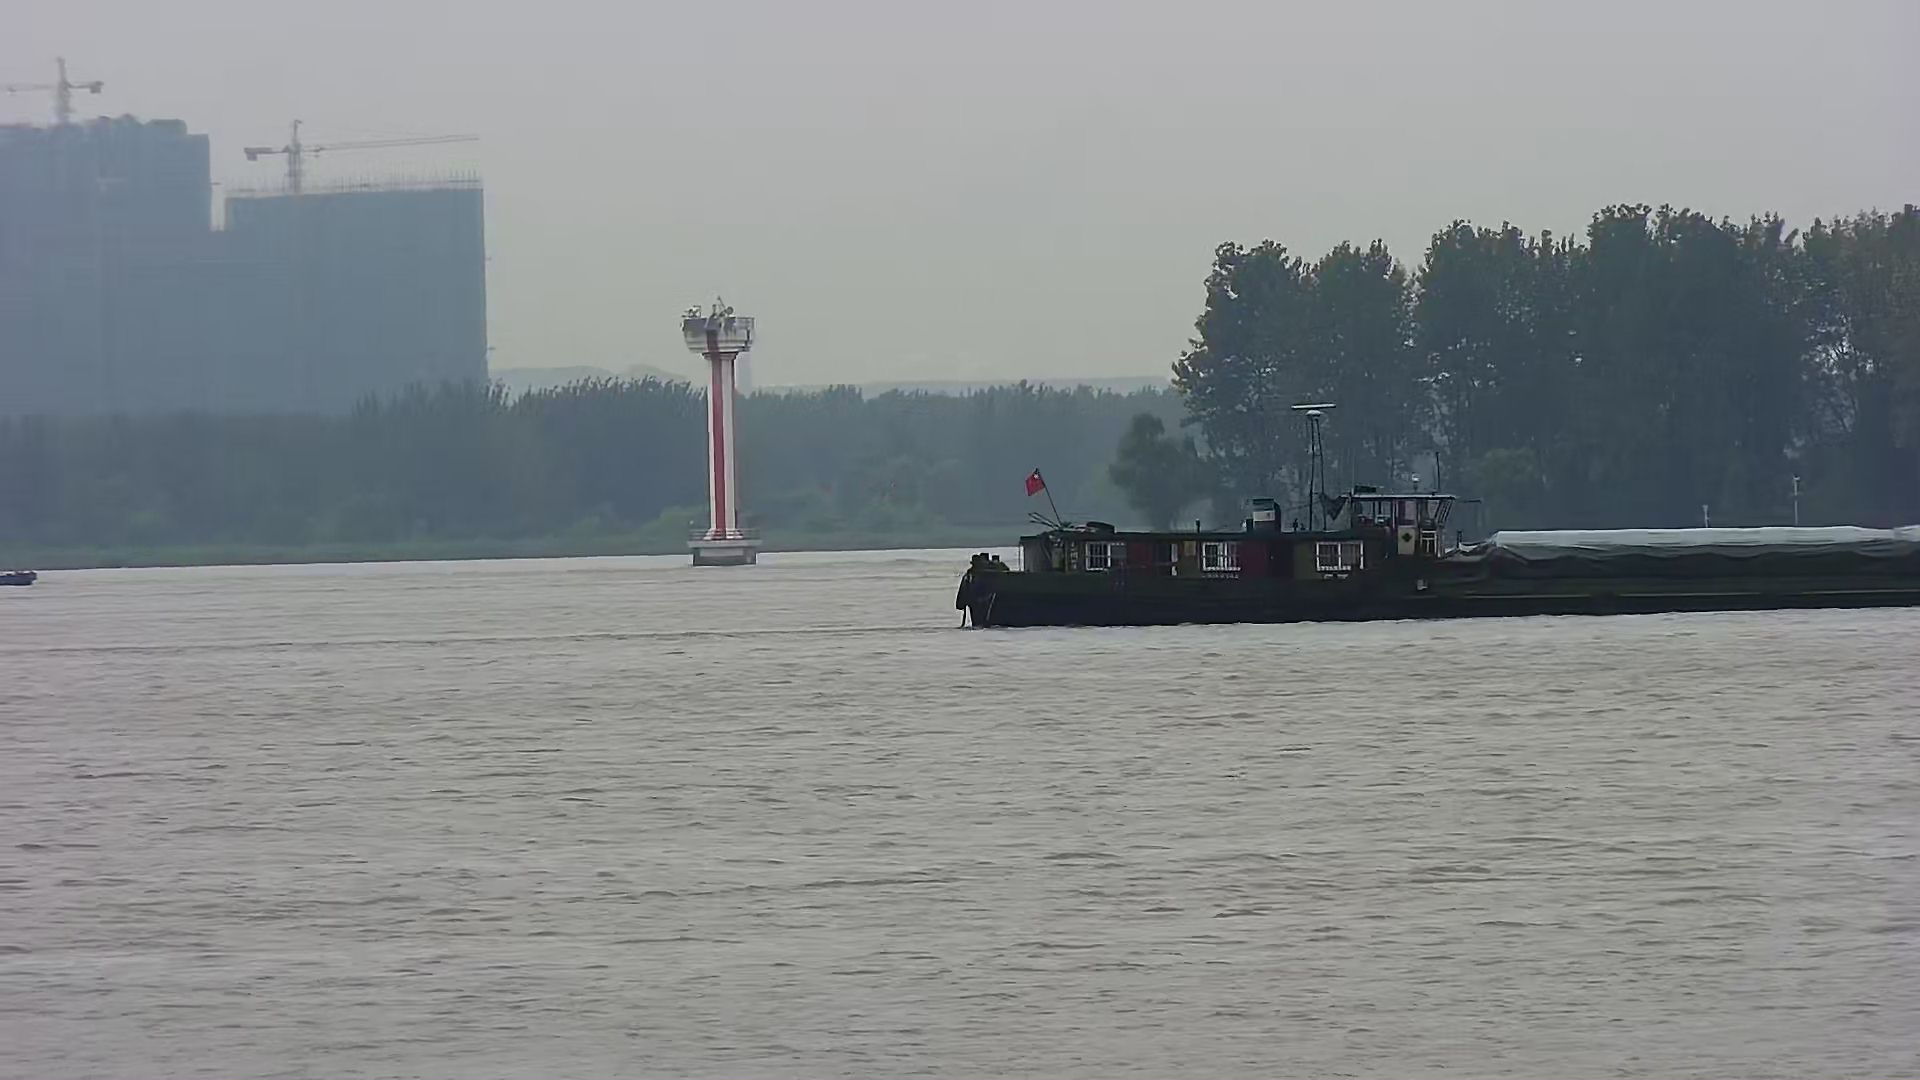boat: (1, 563, 40, 589)
platform: (671, 295, 767, 564)
ship: (945, 400, 1920, 629)
